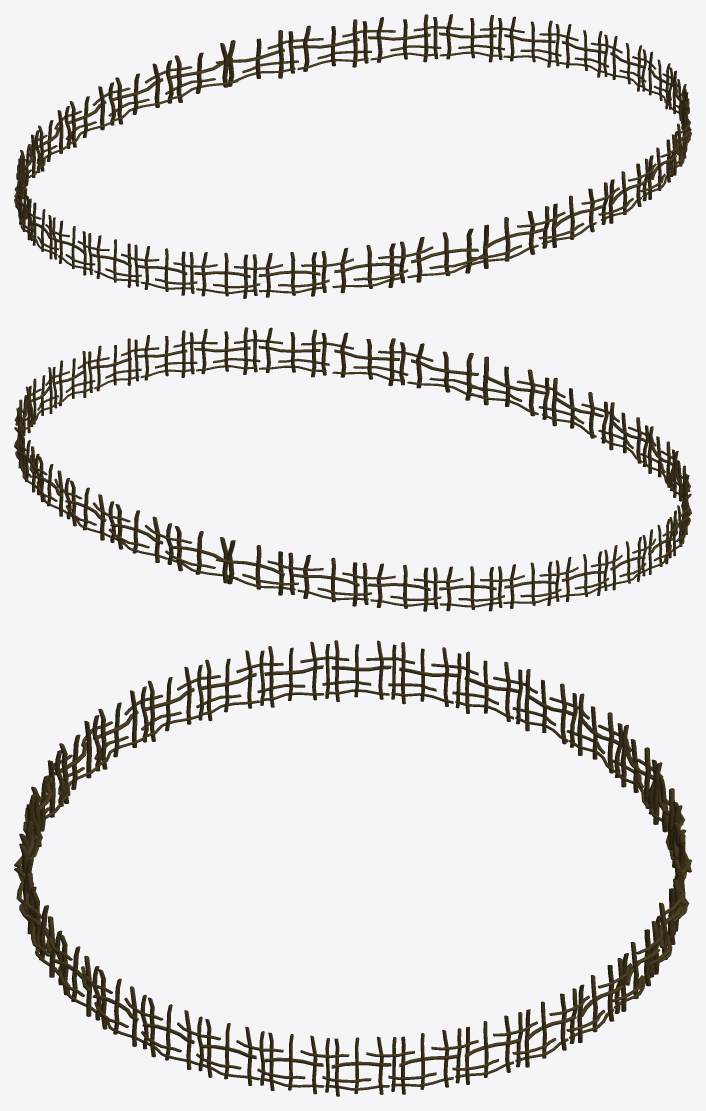
The model's file is odun.fbx.
The picture shows the model from 3 angles, top to bottom: view 1: azimuth 30°, elevation 25°; view 2: azimuth 150°, elevation 25°; view 3: azimuth 270°, elevation 25°; orthographic projection. The views are drawn at different scales.
Visible parts, largest first — view 1: polySurface172; view 2: polySurface172; view 3: polySurface172.
Boxes of the visible parts, left/top/right/bottom form: polySurface172: left=14, top=14, right=691, bottom=298; polySurface172: left=14, top=327, right=691, bottom=611; polySurface172: left=14, top=640, right=691, bottom=1096.
Bounding box in the file's own units: 36.94 × 2.57 × 26.38.
